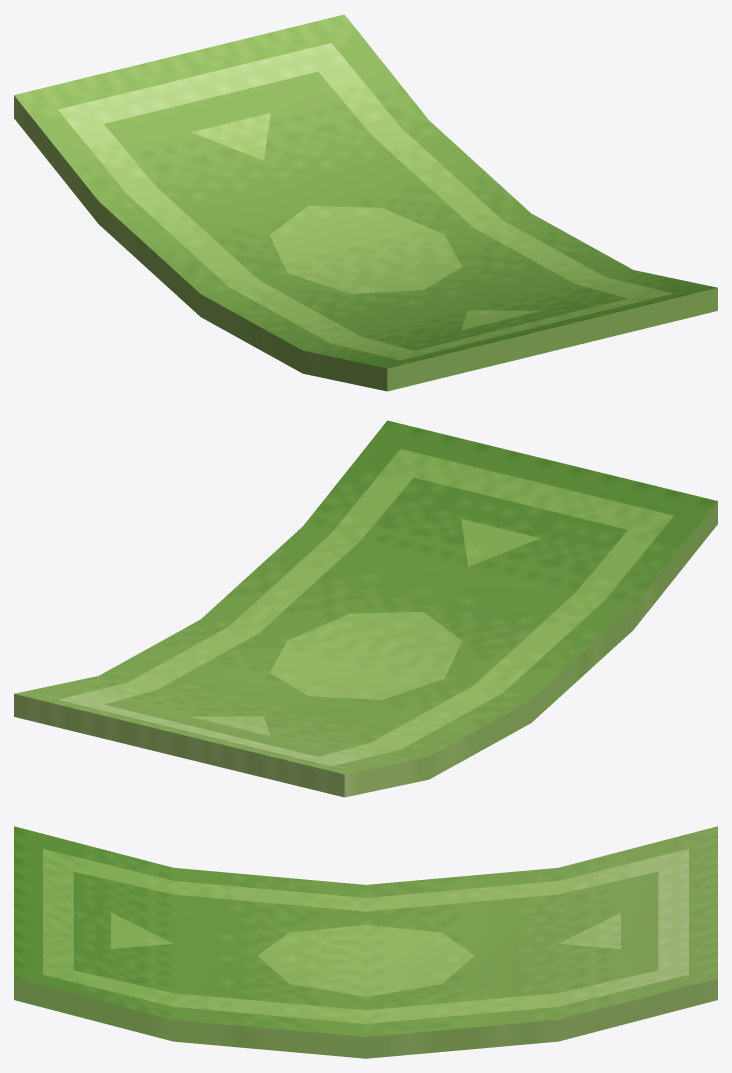
The model's file is Money_Bill_Arched.gltf.
3 renders of one model, top to bottom at view 1: azimuth 30°, elevation 25°; view 2: azimuth 150°, elevation 25°; view 3: azimuth 270°, elevation 25°, orthographic. The views are drawn at different scales.
Parts seen in each view (by area): view 1: Money_Bill_Arched; view 2: Money_Bill_Arched; view 3: Money_Bill_Arched.
Boxes of the visible parts, x1=… form: Money_Bill_Arched: x1=14, y1=14, x2=717, y2=391; Money_Bill_Arched: x1=14, y1=420, x2=717, y2=797; Money_Bill_Arched: x1=14, y1=826, x2=717, y2=1058.
Bounding box in the file's own units: 0.3 × 0.074 × 0.5868.
1 material, 1 textured.
